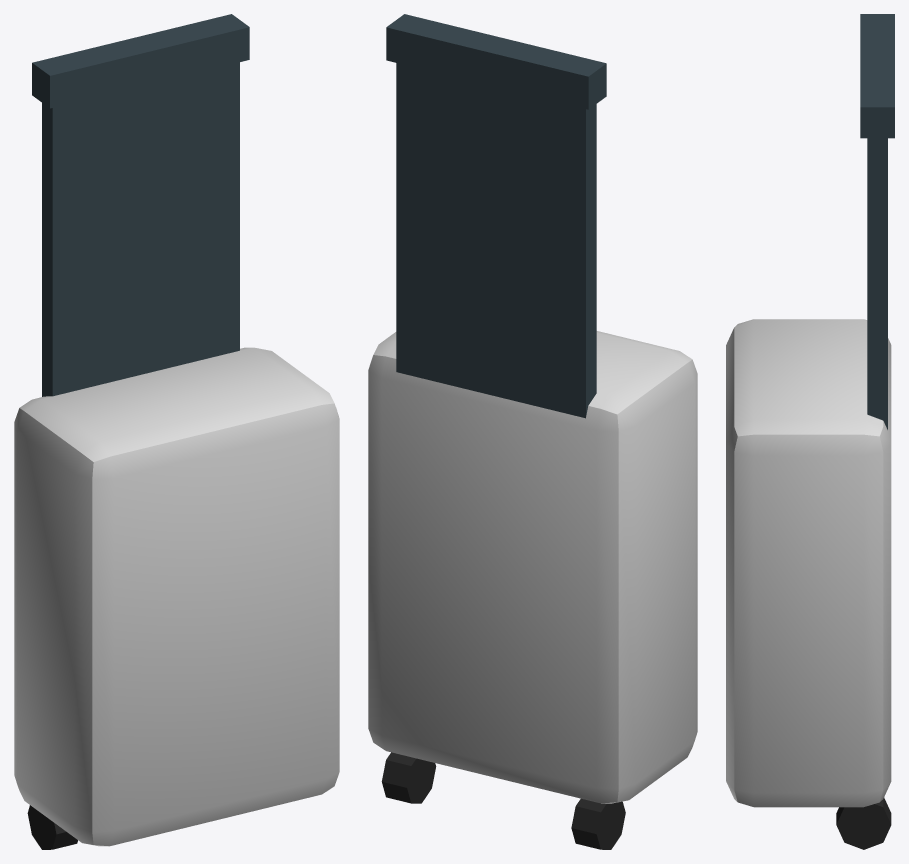
File: airport_suitcase.glb
The picture shows the model from 3 angles, left to right: view 1: azimuth 30°, elevation 25°; view 2: azimuth 150°, elevation 25°; view 3: azimuth 270°, elevation 25°; orthographic projection. The views are drawn at different scales.
Visible parts, largest first — view 1: AirportSuitcase_body; view 2: AirportSuitcase_body; view 3: AirportSuitcase_body.
Part boxes in pixels (x1,y1,x2,y2): AirportSuitcase_body: (14,14,339,849); AirportSuitcase_body: (368,14,697,849); AirportSuitcase_body: (726,14,894,849).
Size of the model in its own units: 0.42 by 1.18 by 0.245.
